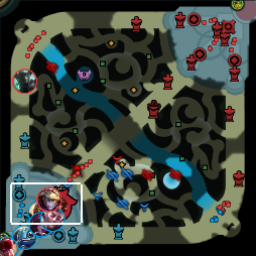ezreal: (37, 185, 61, 209)
fizz: (10, 224, 36, 248)
leesin: (1, 235, 18, 255)
mordekaiser: (11, 67, 38, 93)
rakan: (42, 207, 63, 230)
xayah: (28, 211, 50, 235)
